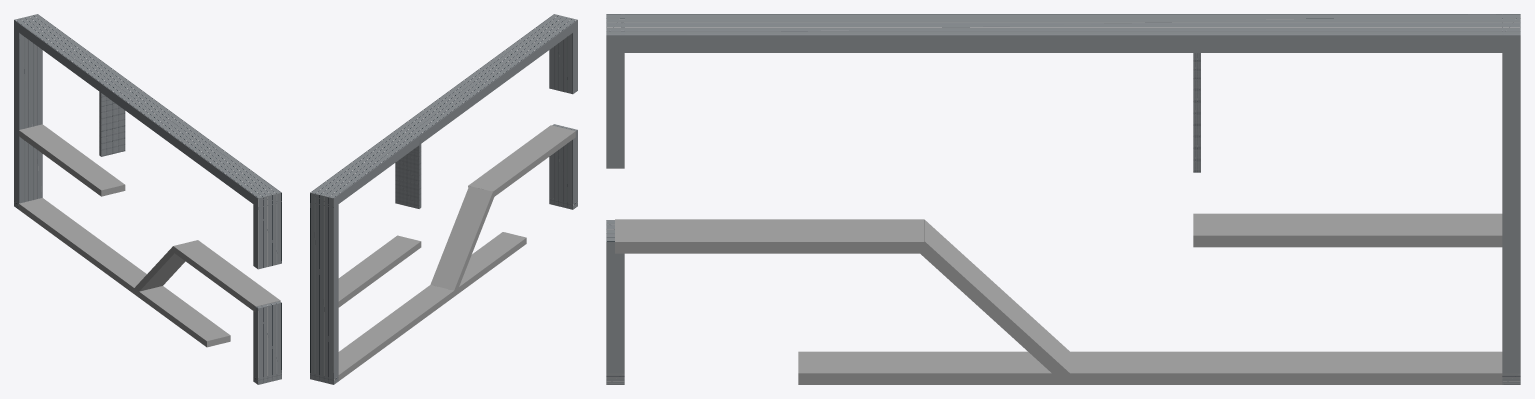
Rendered from Stage1_collision.fbx.
3 renders of one model, left to right at view 1: azimuth 30°, elevation 25°; view 2: azimuth 150°, elevation 25°; view 3: azimuth 270°, elevation 25°, orthographic. The views are drawn at different scales.
Visible parts, largest first — view 1: polySurface4, floor_def133, polySurface3, polySurface20, floor_def134, floor_def157, floor_def144, floor_def136, wall17, wall16; view 2: polySurface4, polySurface3, floor_def133, polySurface20, floor_def136, floor_def157, floor_def134, floor_def144, wall17, wall16; view 3: polySurface4, floor_def133, floor_def134, floor_def144, polySurface3, polySurface20, floor_def136, floor_def157.
Boxes of the visible parts, x1,y1,x2,y2 form: polySurface4: (19,17,277,204); floor_def133: (19,198,230,347); polySurface3: (14,14,42,209); polySurface20: (253,189,281,384); floor_def134: (19,124,125,196); floor_def157: (173,242,271,312); floor_def144: (187,240,280,308); floor_def136: (134,246,185,293); wall17: (99,126,125,156); wall16: (99,103,125,131); polySurface4: (315,17,573,203); polySurface3: (310,189,338,384); floor_def133: (338,232,526,380); polySurface20: (549,14,577,209); floor_def136: (430,186,494,292); floor_def157: (475,126,575,191); floor_def134: (338,235,421,307); floor_def144: (468,125,575,197); wall17: (395,178,421,208); wall16: (395,156,421,183); polySurface4: (621,14,1502,52); floor_def133: (798,351,1502,384); floor_def134: (1193,213,1502,247); floor_def144: (615,219,924,253); polySurface3: (1502,14,1520,384); polySurface20: (606,14,624,384); floor_def136: (920,219,1069,380); floor_def157: (615,219,923,226).
Size of the model in its own units: 208 by 1496 by 3548.
Materials: 3 (2 with a texture image).
